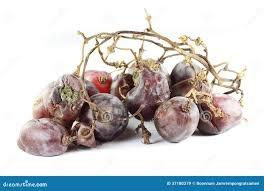Grape Rotten: (16, 8, 248, 156)
